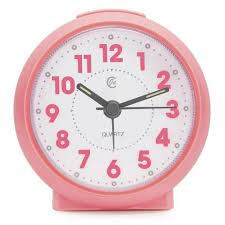alarm_clock: (13, 8, 211, 210), (13, 15, 211, 210)
